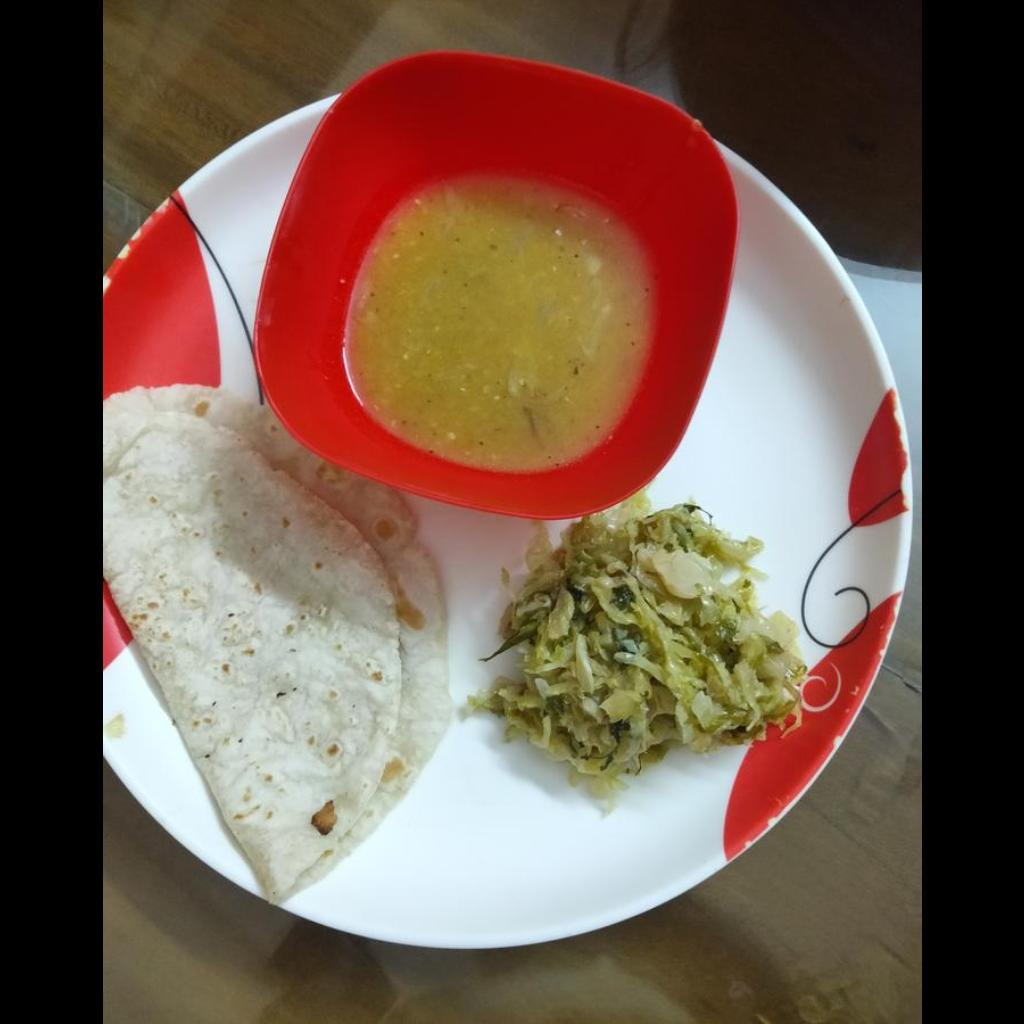daal: (340, 175, 652, 475)
ruti: (102, 386, 447, 903)
vaji: (477, 493, 808, 798)
